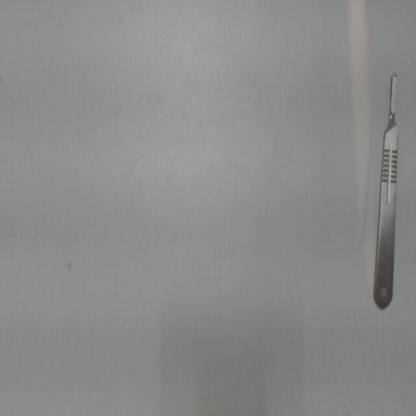No.4 BP Handle: (366, 66, 408, 322)
